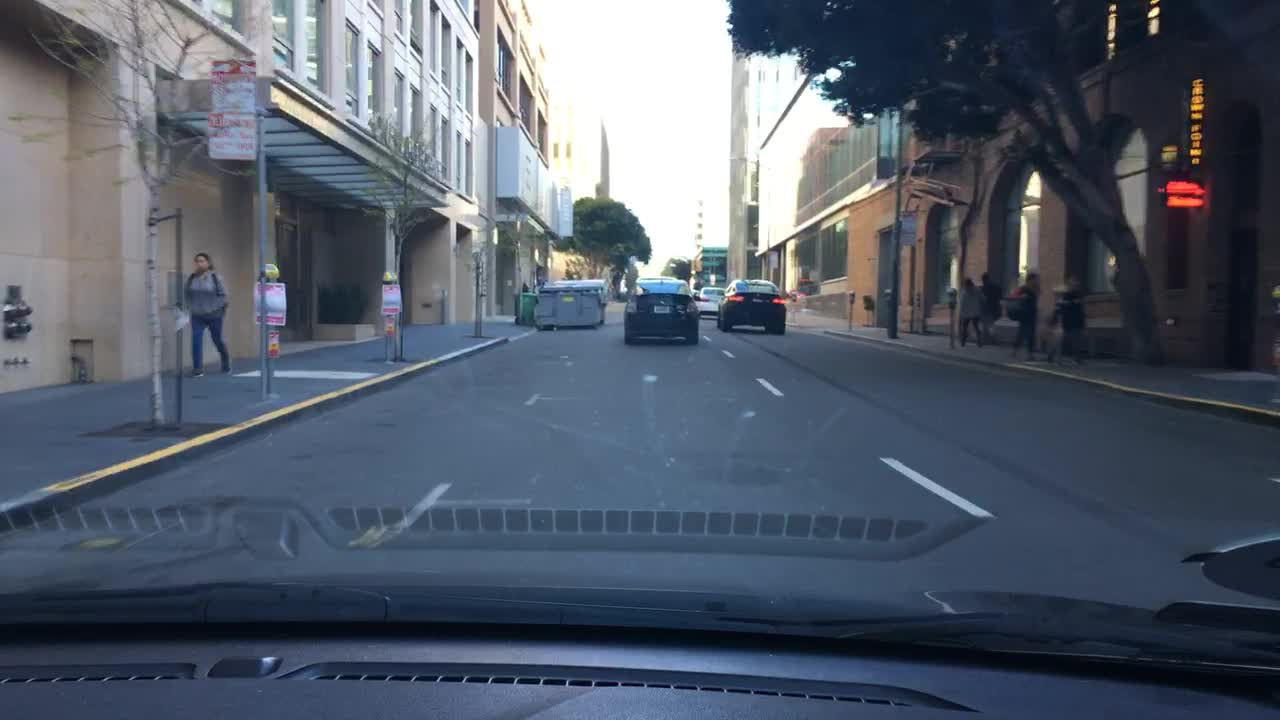car: (620, 278, 702, 346), (715, 277, 785, 334), (694, 284, 727, 316), (632, 274, 678, 286), (618, 281, 630, 301)
person: (182, 249, 229, 380), (1001, 269, 1046, 361), (1047, 274, 1090, 364), (975, 270, 1006, 344), (955, 275, 987, 346)
traffic sign: (204, 113, 259, 162), (209, 57, 256, 108), (899, 209, 917, 230), (900, 228, 919, 245)
